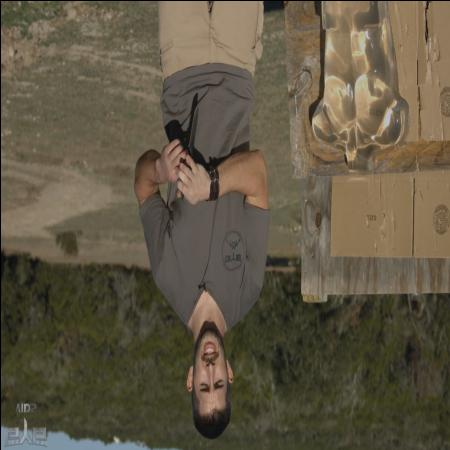long weapon: (163, 102, 199, 202)
